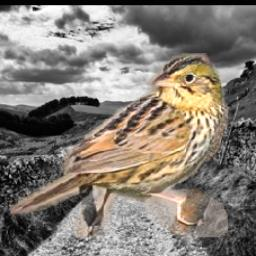Sparrow: (11, 54, 229, 238)
